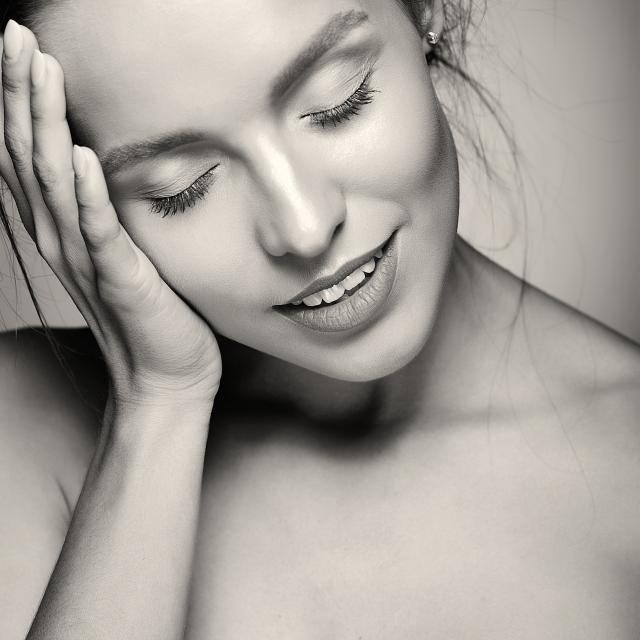Closed: (294, 59, 382, 127), (135, 158, 223, 220)
